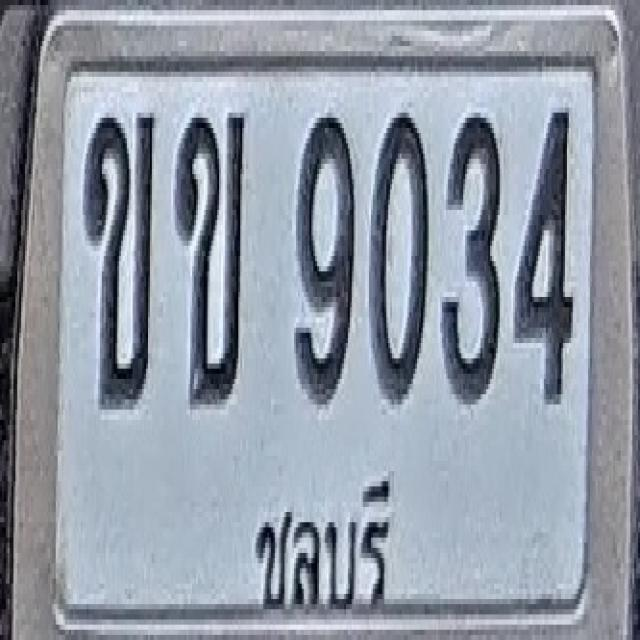-: (84, 110, 156, 407), (176, 108, 245, 404)
0: (371, 108, 429, 404)
3: (441, 110, 501, 402)
4: (515, 105, 573, 402)
9: (295, 110, 355, 402)
CBI: (243, 456, 402, 624)
